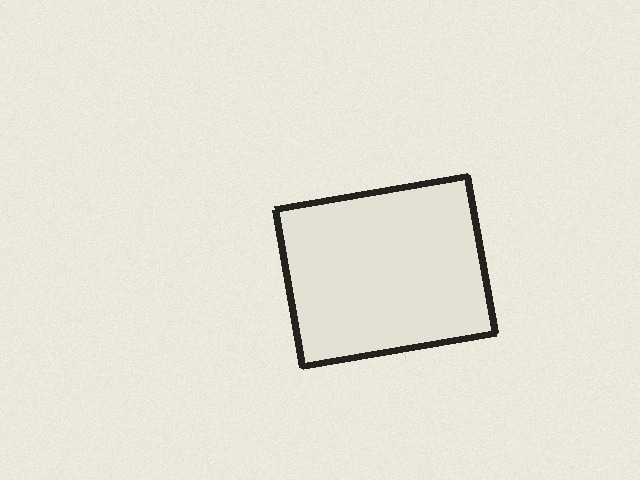parking_area: (275, 176, 495, 366)
